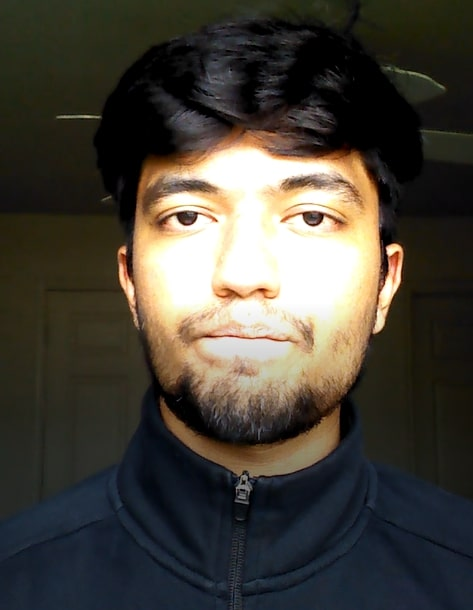Not Sleeping: (139, 170, 370, 260)
